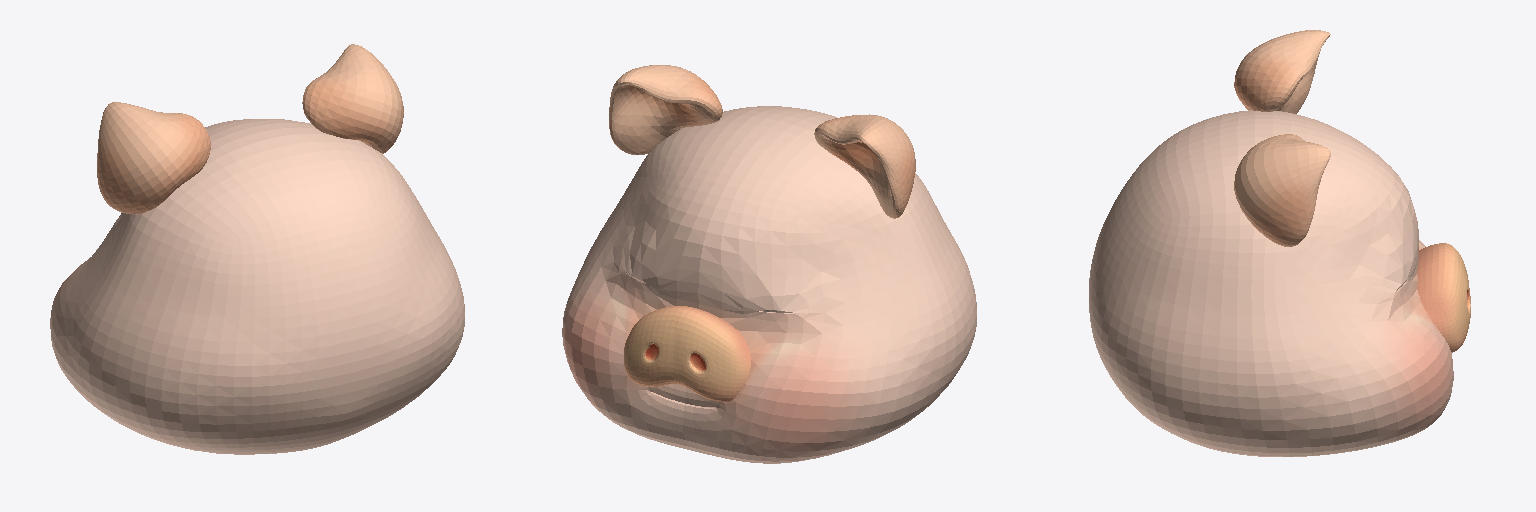
3 renders of one model, left to right at view 1: azimuth 30°, elevation 25°; view 2: azimuth 150°, elevation 25°; view 3: azimuth 270°, elevation 25°, orthographic.
Visible parts, largest first — view 1: pig_closeeye; view 2: pig_closeeye; view 3: pig_closeeye.
Boxes of the visible parts, box(x1,y1,x2,y2) form: pig_closeeye: box(50, 44, 464, 454); pig_closeeye: box(562, 65, 976, 463); pig_closeeye: box(1089, 30, 1470, 456).
Size of the model in its own units: 2.47 by 2.23 by 2.31.
Materials: 1 (1 with a texture image).